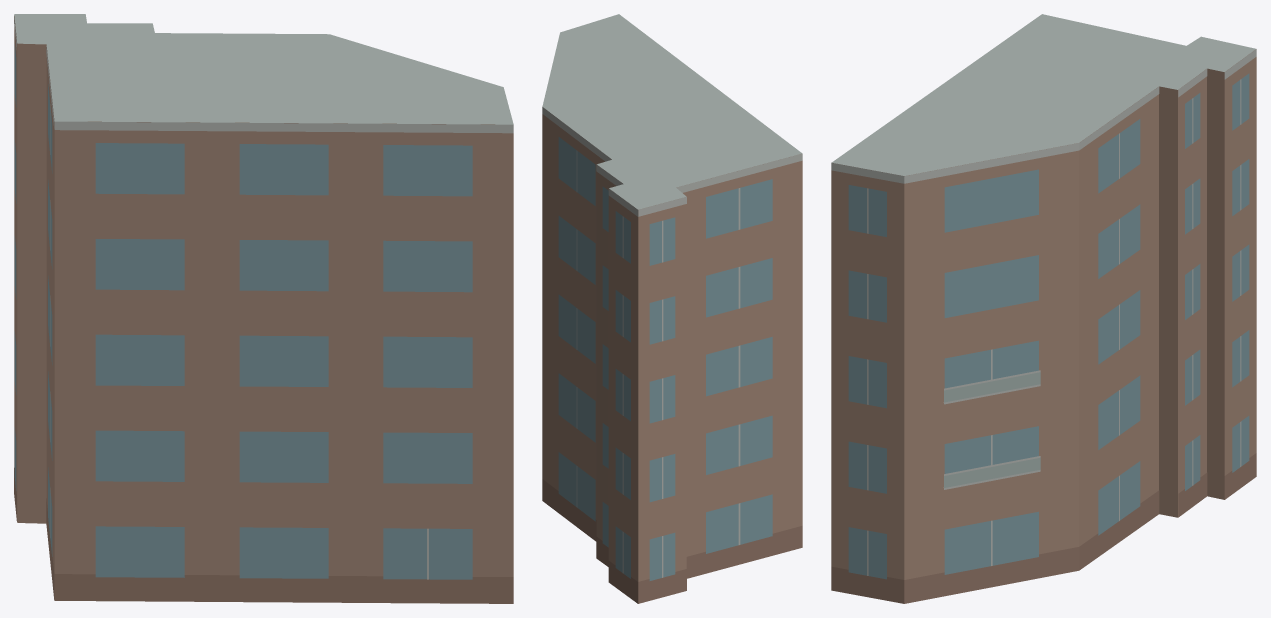
Rendered from survey-upis-32740115.glb.
The picture shows the model from 3 angles, left to right: view 1: azimuth 30°, elevation 25°; view 2: azimuth 150°, elevation 25°; view 3: azimuth 270°, elevation 25°; orthographic projection. The views are drawn at different scales.
Visible parts, largest first — view 1: survey-upis-32740115.tmp; view 2: survey-upis-32740115.tmp; view 3: survey-upis-32740115.tmp.
Part boxes in pixels (x1,y1,x2,y2): survey-upis-32740115.tmp: [14, 14, 513, 603]; survey-upis-32740115.tmp: [542, 14, 802, 603]; survey-upis-32740115.tmp: [831, 14, 1256, 603].
Bounding box in the file's own units: 10.98 × 13.5 × 12.17.
